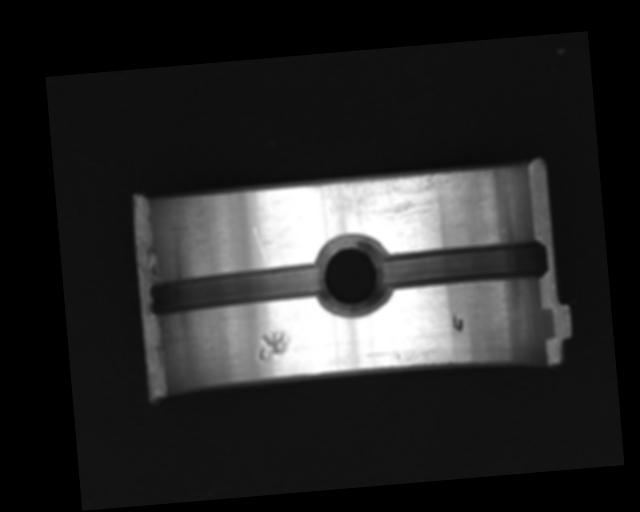blot: (451, 311, 464, 335)
bruise: (255, 329, 293, 363)
gap: (147, 261, 325, 318), (377, 240, 548, 292)
hole: (310, 232, 394, 319)
nick: (252, 225, 269, 268)
scratch: (306, 169, 470, 227)
